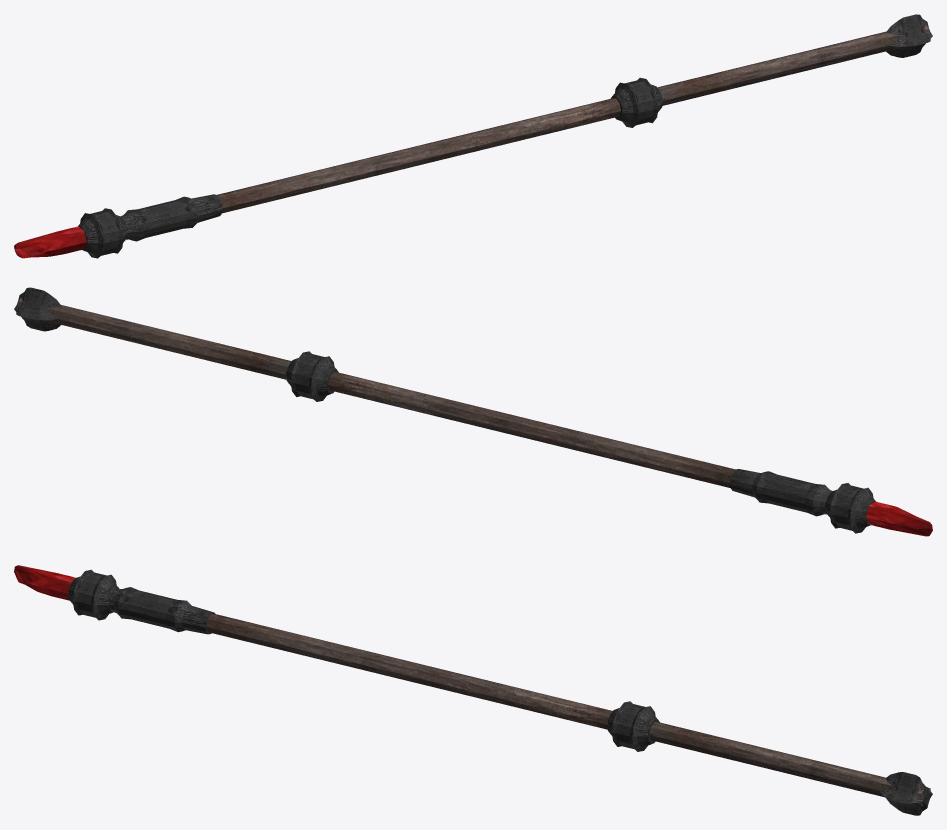
The model's file is G3_WEAPON_STAFF_FIREMAGE_01.glb.
The picture shows the model from 3 angles, top to bottom: view 1: azimuth 30°, elevation 25°; view 2: azimuth 150°, elevation 25°; view 3: azimuth 330°, elevation 25°; orthographic projection.
Parts seen in each view (by area): view 1: G3_WEAPON_STAFF_FIREMAGE_01; view 2: G3_WEAPON_STAFF_FIREMAGE_01; view 3: G3_WEAPON_STAFF_FIREMAGE_01.
Boxes of the visible parts, bbox=[...] form: G3_WEAPON_STAFF_FIREMAGE_01: bbox=[14, 14, 932, 258]; G3_WEAPON_STAFF_FIREMAGE_01: bbox=[14, 287, 932, 536]; G3_WEAPON_STAFF_FIREMAGE_01: bbox=[14, 565, 932, 815].
Bounding box in the file's own units: 1.96 × 0.0887 × 0.0897.
Materials: 1 (1 with a texture image).
